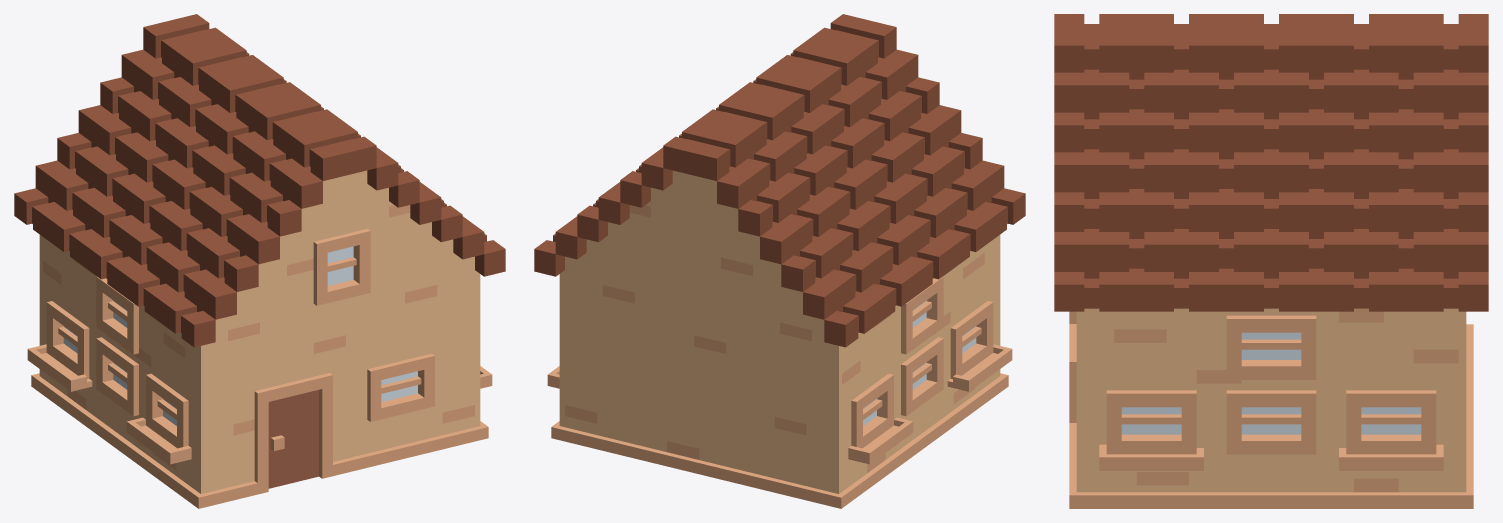
The model's file is village_house_2.obj.
3 views of the same model, side by side, from view 1: azimuth 30°, elevation 25°; view 2: azimuth 150°, elevation 25°; view 3: azimuth 270°, elevation 25° (orthographic). The views are drawn at different scales.
Bounding box in the file's own units: 6 × 5.8 × 5.8.
Materials: 1 (1 with a texture image).
